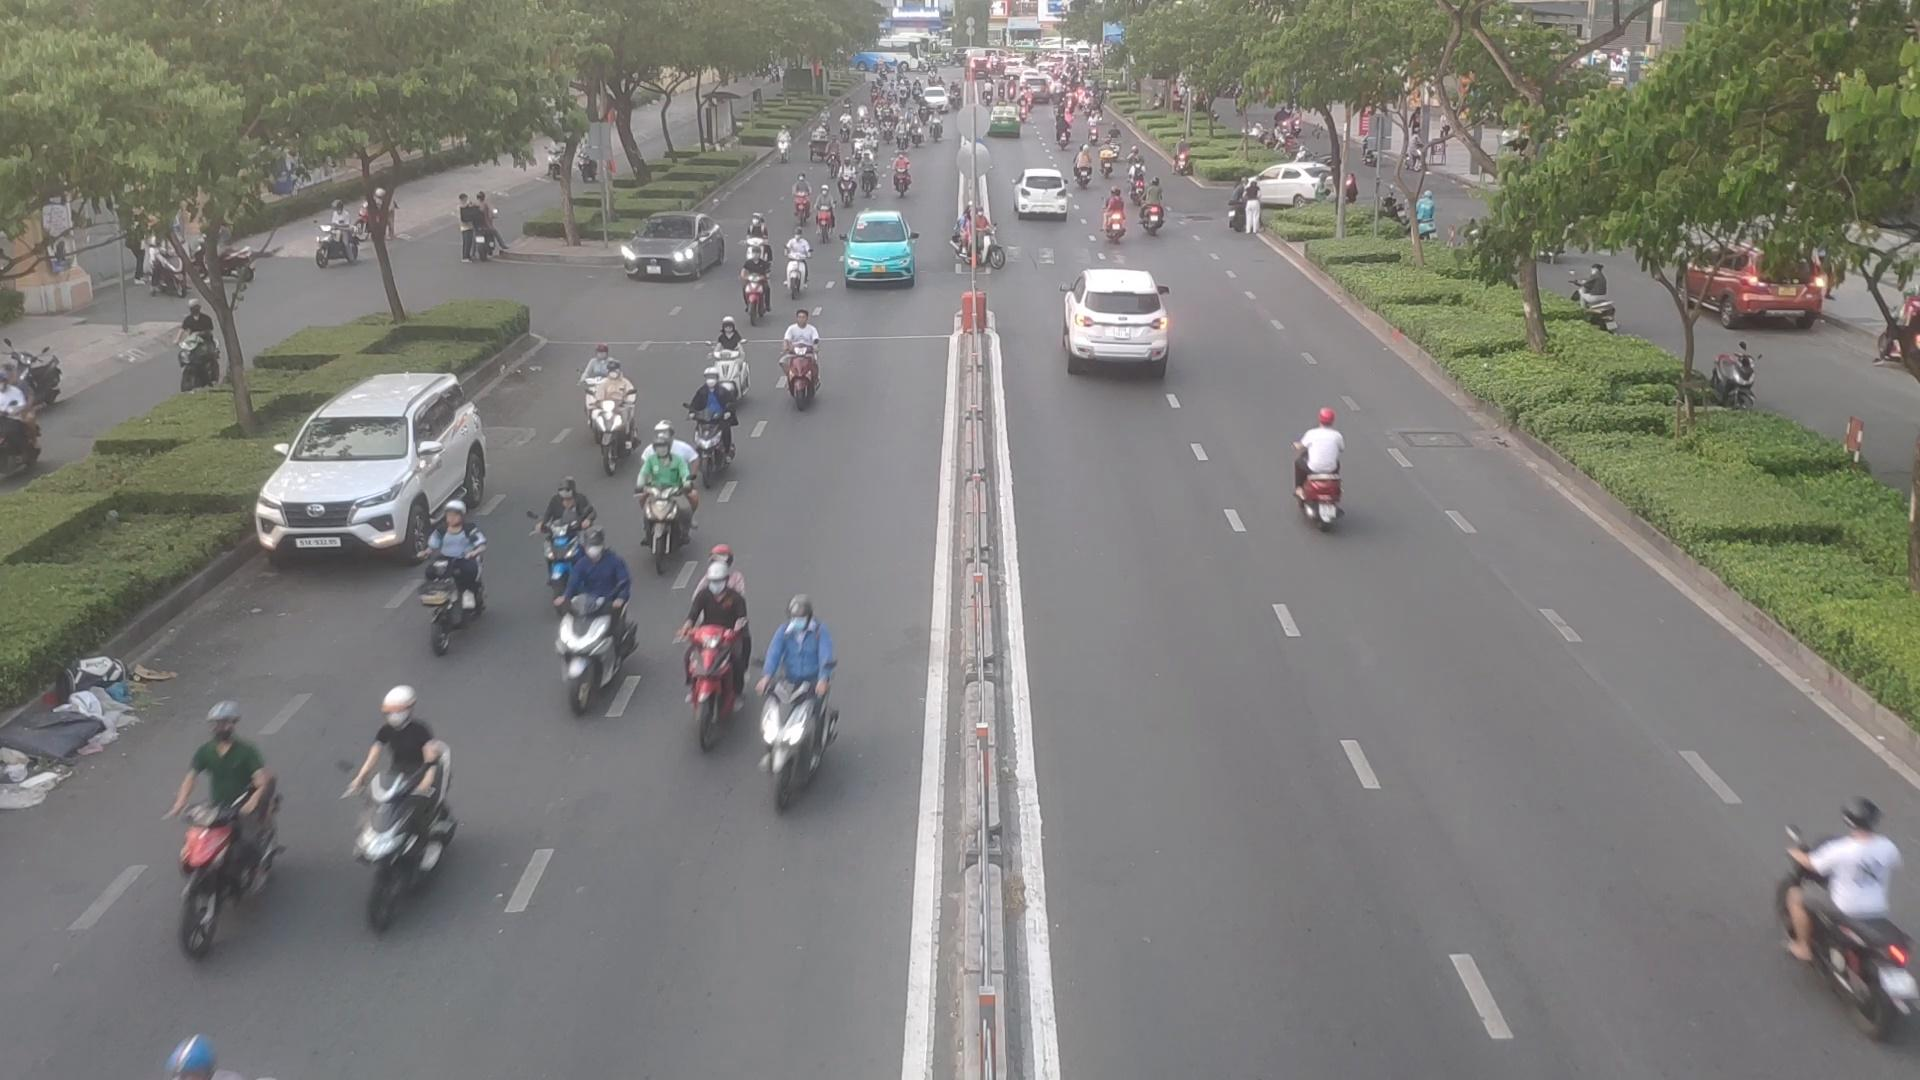car: (258, 375, 495, 564), (1060, 270, 1170, 368), (618, 212, 731, 280), (841, 214, 913, 290), (1247, 162, 1336, 210), (1015, 167, 1073, 218)
motorbike: (1772, 795, 1920, 1040), (177, 702, 278, 957), (343, 704, 464, 909), (749, 618, 856, 823), (683, 572, 748, 752), (555, 597, 644, 717), (417, 555, 491, 658), (531, 469, 587, 585), (1291, 407, 1342, 531), (626, 425, 675, 547), (593, 375, 644, 476), (785, 316, 837, 407), (684, 367, 723, 465), (704, 334, 748, 407), (593, 339, 620, 443), (741, 258, 775, 314), (742, 212, 771, 273), (786, 240, 816, 289), (815, 189, 839, 239), (794, 171, 814, 224), (1106, 193, 1131, 233), (1146, 178, 1163, 235), (833, 160, 853, 203), (860, 156, 878, 199), (1076, 156, 1097, 193), (1130, 167, 1145, 200), (891, 153, 902, 195), (1098, 154, 1114, 175), (1130, 150, 1143, 166)
